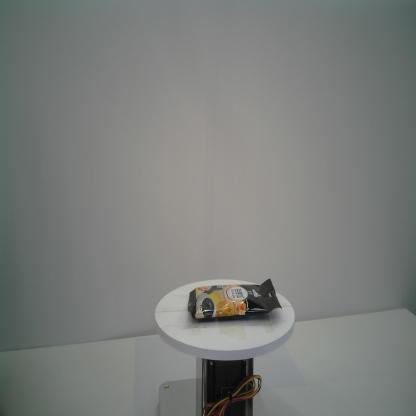Instant Drink: (188, 279, 282, 321)
